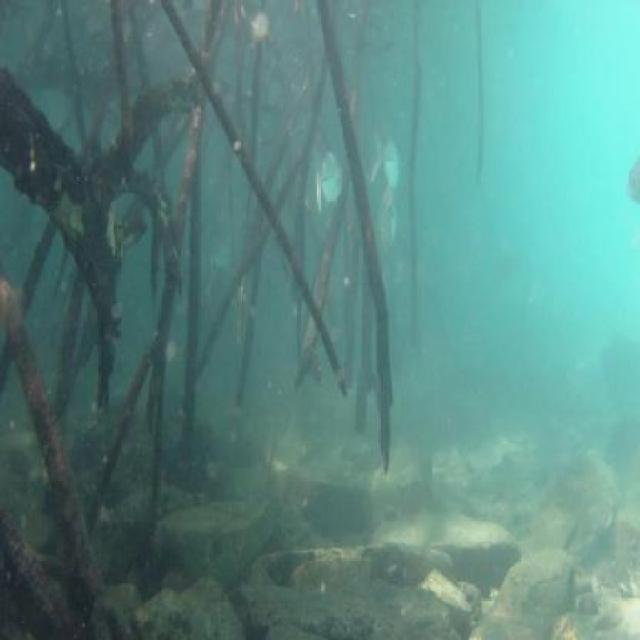Caranx_sexfasciatus_juvenile: (365, 124, 403, 188), (315, 141, 342, 210), (378, 190, 405, 258)
